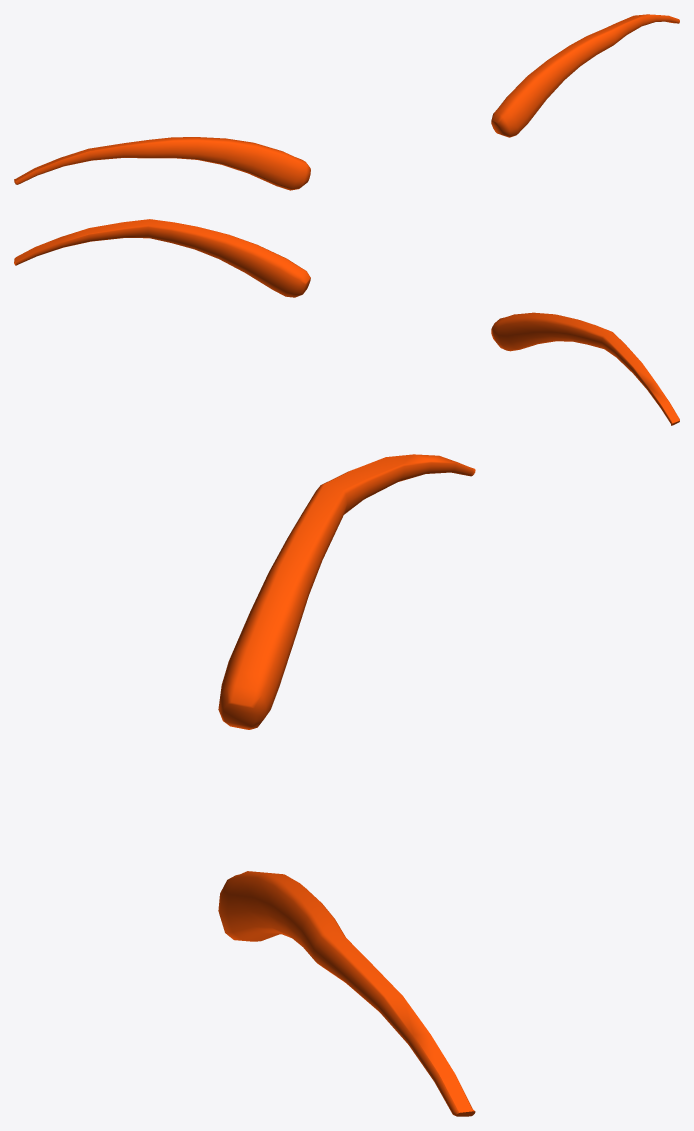
File: Eyebrows_29_06.fbx
The picture shows the model from 3 angles, top to bottom: view 1: azimuth 30°, elevation 25°; view 2: azimuth 150°, elevation 25°; view 3: azimuth 270°, elevation 25°; orthographic projection. The views are drawn at different scales.
Visible parts, largest first — view 1: Eyebrows_29_06; view 2: Eyebrows_29_06; view 3: Eyebrows_29_06.
Boxes of the visible parts, <box> form: Eyebrows_29_06: <box>14,14,679,190</box>; Eyebrows_29_06: <box>14,219,679,425</box>; Eyebrows_29_06: <box>218,454,475,1116</box>.
Bounding box in the file's own units: 19.88 × 1.77 × 3.33.
